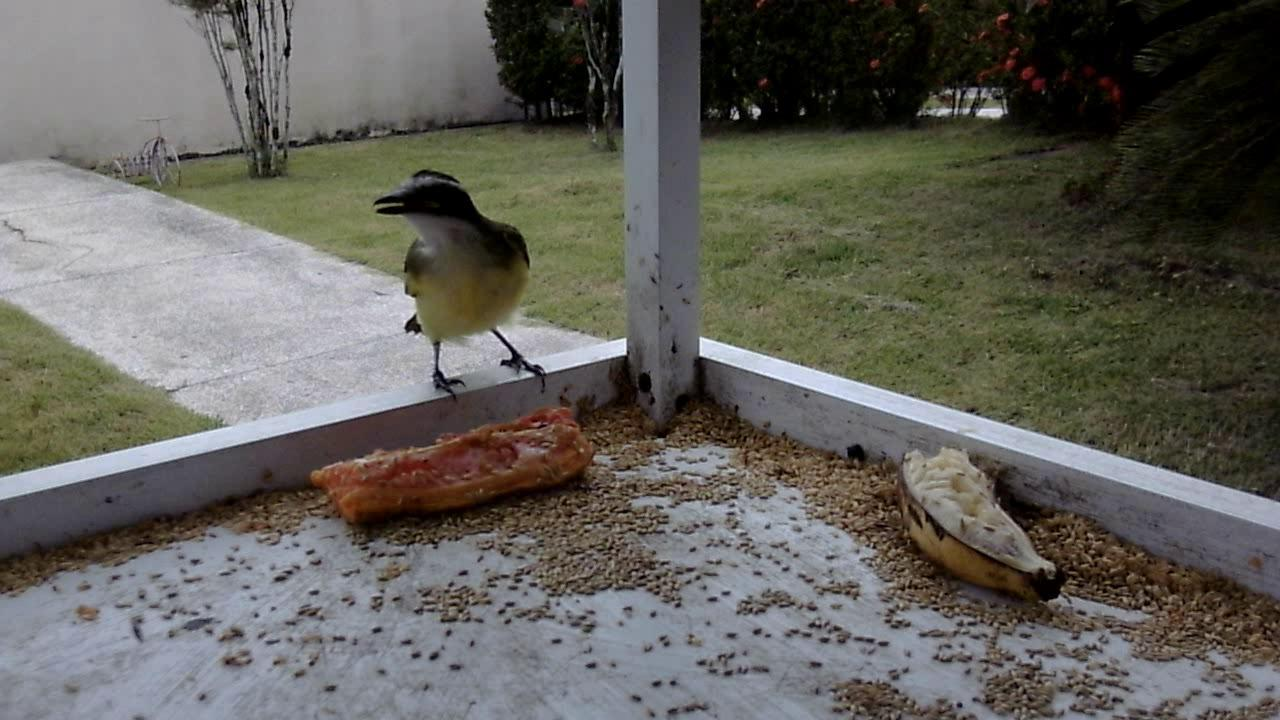bem_te_vi: (368, 167, 551, 408)
